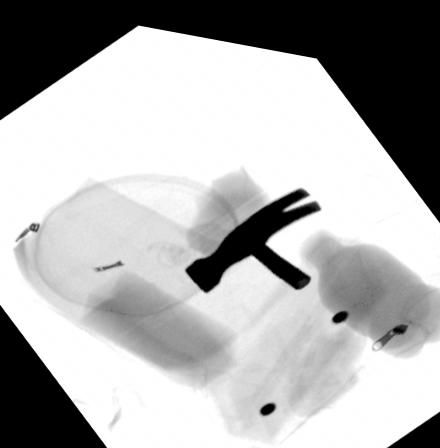Hammer: (182, 175, 321, 285)
